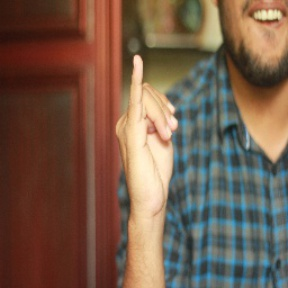I: (109, 53, 181, 211)
